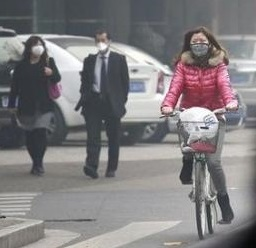person: (157, 26, 241, 241), (74, 26, 131, 182), (6, 31, 65, 178)
